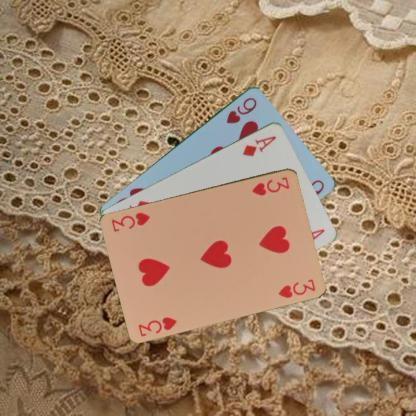3h: (249, 174, 291, 197), (136, 314, 178, 337)
9h: (224, 94, 258, 125)
Ad: (240, 132, 277, 158)
